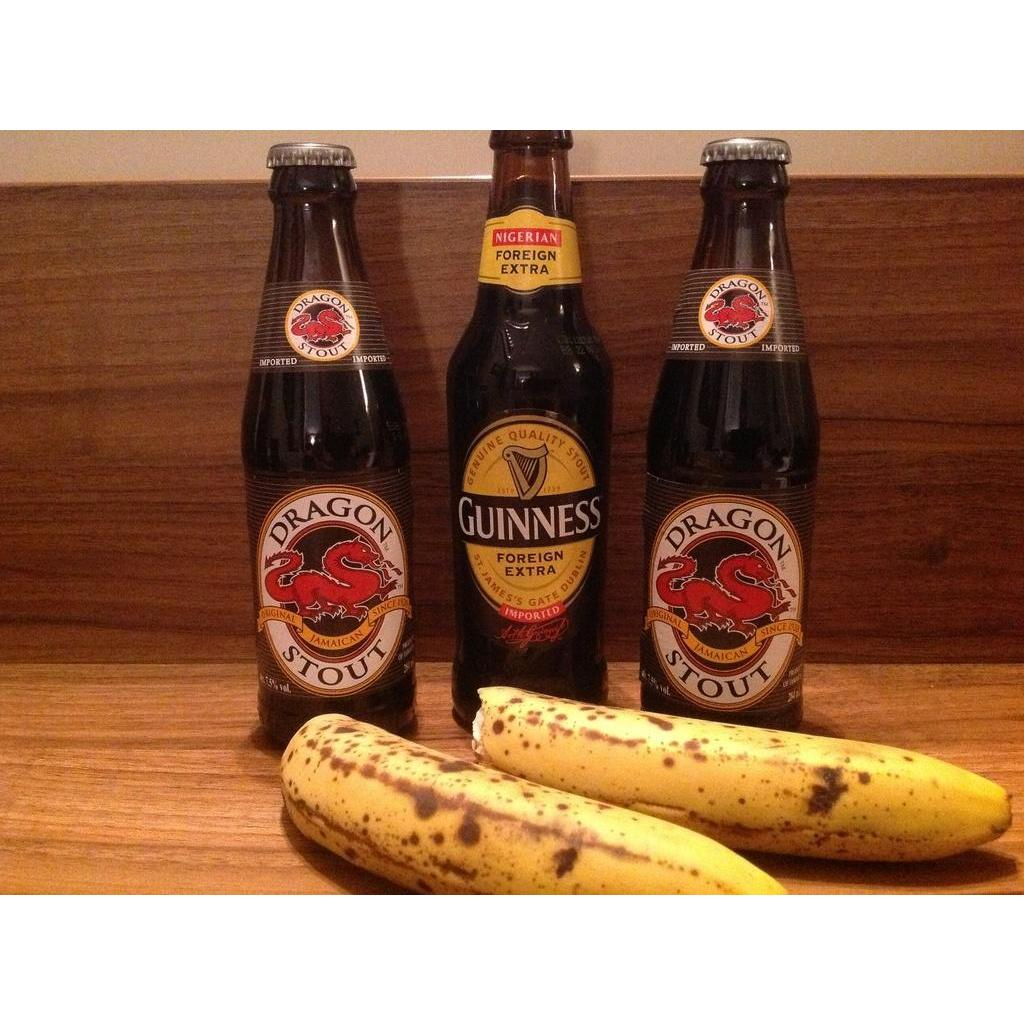banana: (470, 687, 1012, 865), (279, 716, 784, 895)
